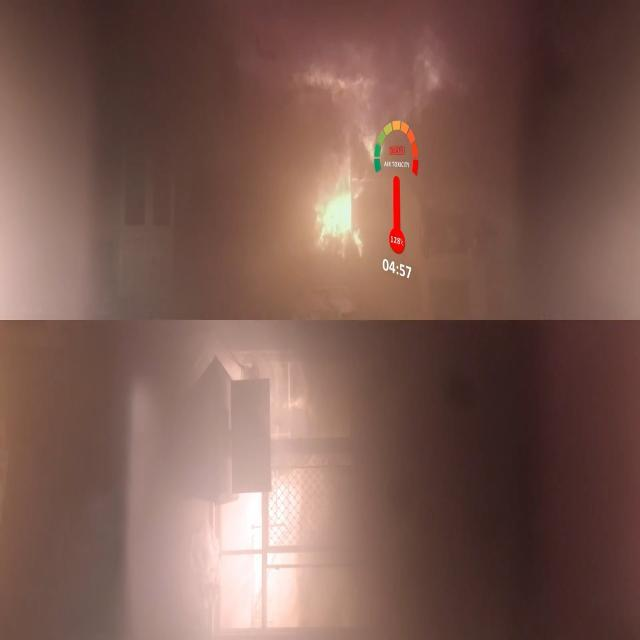Fire: (270, 50, 372, 317)
